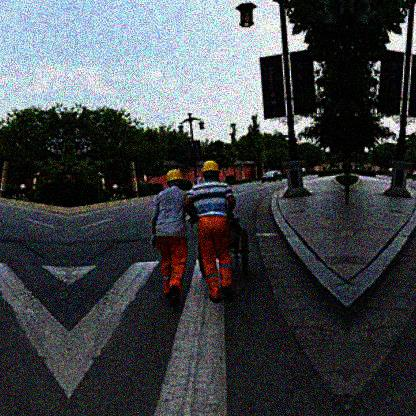helmet: (165, 168, 184, 189), (201, 160, 220, 180)
